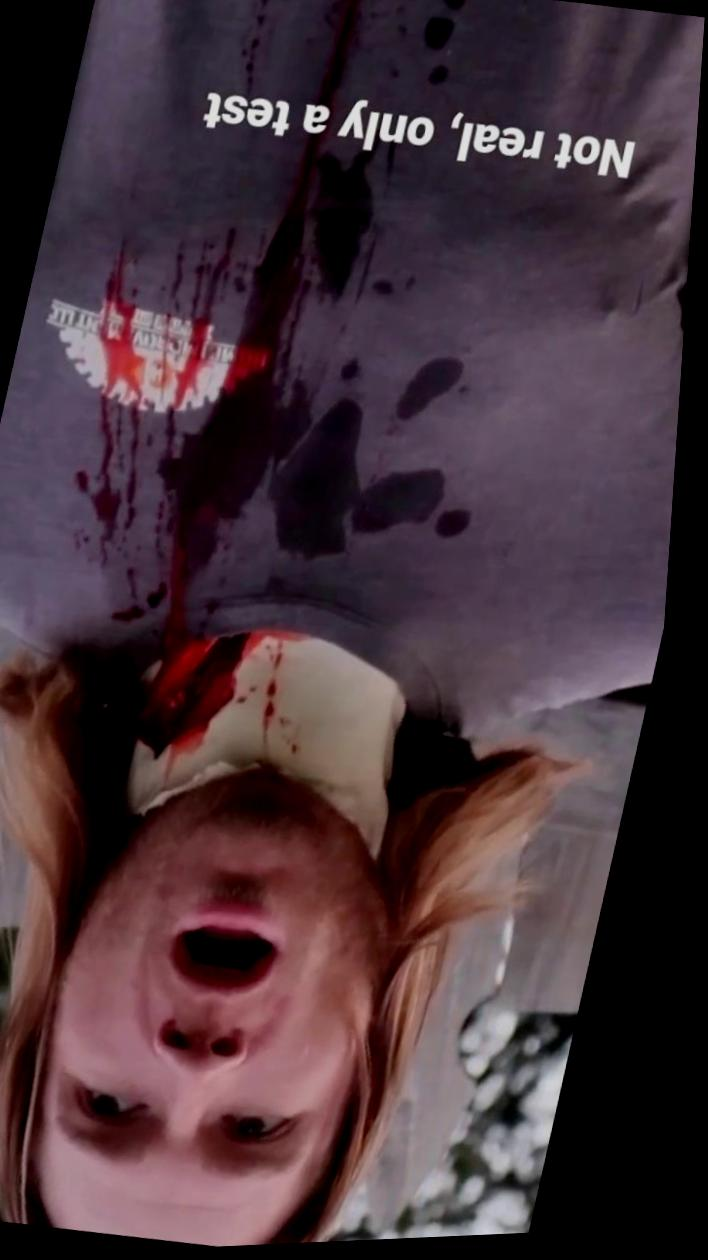Fire: (63, 0, 382, 797)
